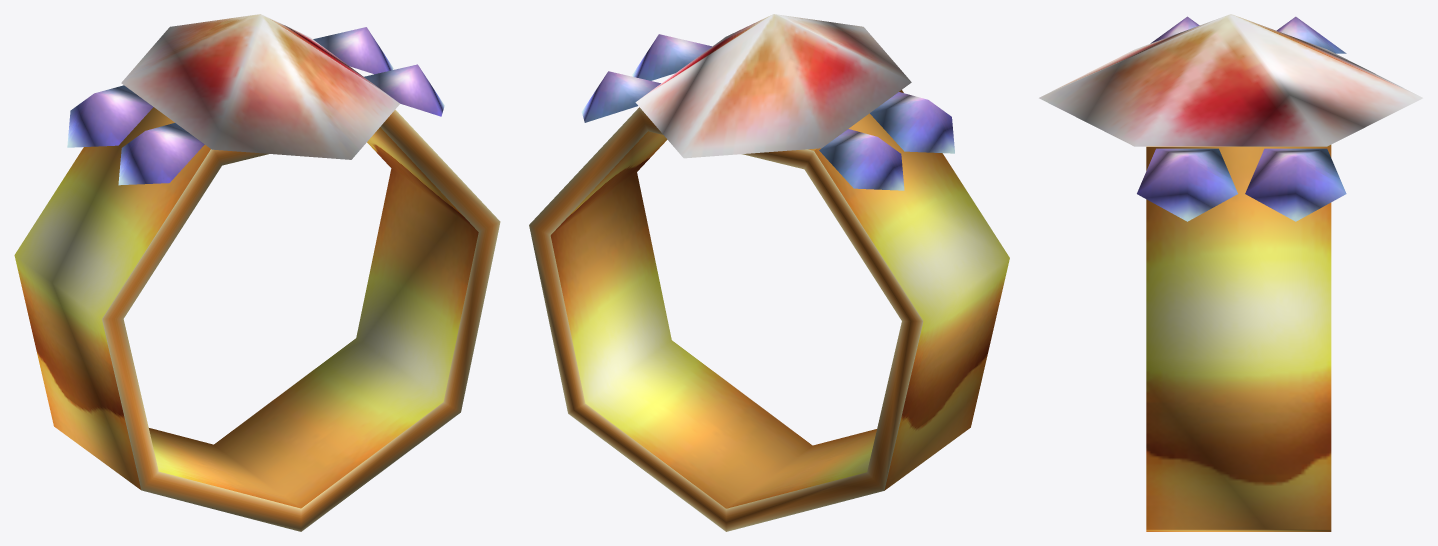
The model's file is jewelry_ring.glb.
The picture shows the model from 3 angles, left to right: view 1: azimuth 30°, elevation 25°; view 2: azimuth 150°, elevation 25°; view 3: azimuth 270°, elevation 25°; orthographic projection. The views are drawn at different scales.
Visible parts, largest first — view 1: ring0; view 2: ring0; view 3: ring0.
Part boxes in pixels (left/top/right/bottom): ring0: left=14, top=14, right=500, bottom=531; ring0: left=529, top=14, right=1009, bottom=531; ring0: left=1039, top=14, right=1422, bottom=531.
Size of the model in its own units: 0.314 by 0.368 by 0.2481.
1 material, 1 textured.
